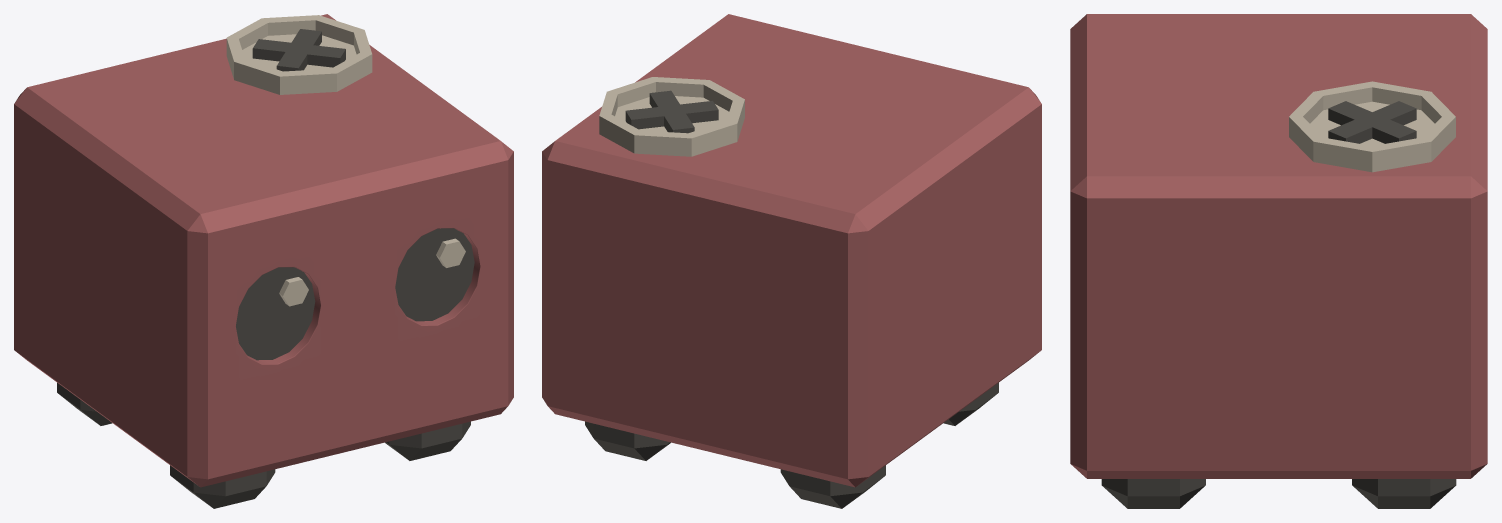
File: testModel.fbx
The picture shows the model from 3 angles, left to right: view 1: azimuth 30°, elevation 25°; view 2: azimuth 150°, elevation 25°; view 3: azimuth 270°, elevation 25°; orthographic projection. The views are drawn at different scales.
Visible parts, largest first — view 1: pCube11, pCube13, pCylinder1, pCube10, pCube9, pCylinder4; view 2: pCube11, pCylinder1, pCube10, pCube9; view 3: pCube11, pCylinder1, pCube10, pCube9.
Boxes of the visible parts, <box> form: pCube11: <box>14,14,513,487</box>; pCube13: <box>236,228,474,360</box>; pCylinder1: <box>226,15,372,94</box>; pCube10: <box>57,382,470,508</box>; pCube9: <box>252,29,345,71</box>; pCylinder4: <box>279,238,465,306</box>; pCube11: <box>542,14,1041,487</box>; pCylinder1: <box>599,77,744,156</box>; pCube10: <box>585,382,998,508</box>; pCube9: <box>625,90,718,133</box>; pCube11: <box>1070,14,1487,478</box>; pCylinder1: <box>1289,81,1455,172</box>; pCube10: <box>1101,479,1456,508</box>; pCube9: <box>1328,101,1416,143</box>.
Size of the model in its own units: 1 by 0.9789 by 1.
